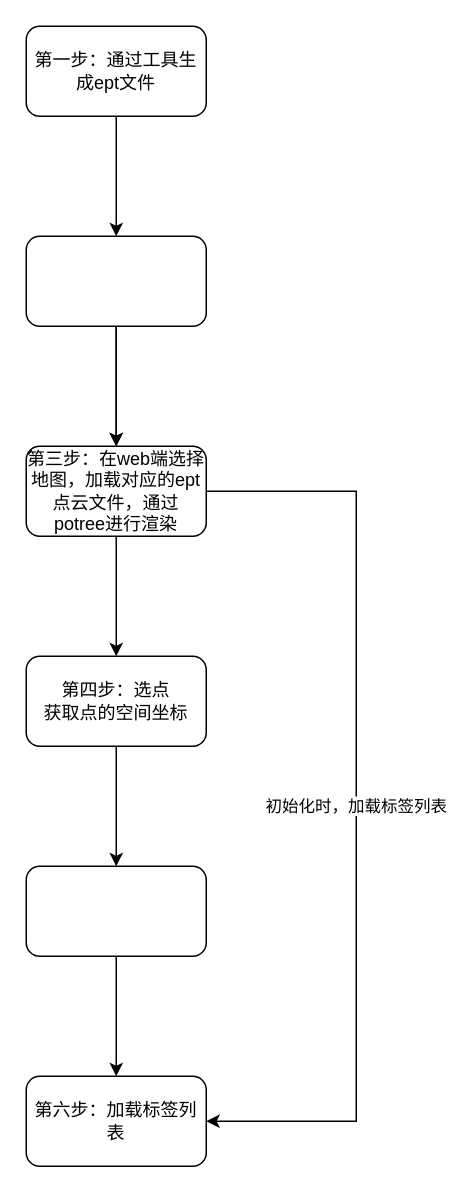
This 473x1193 diagram has some shape labels left out. The shapes that lost their labels are listed below. From the top down, each one's centre as x and y in pixels, then its label:
At pixel 115 280: "第二步：将地图和对应的ept文件路径配置到数据库中".
At pixel 115 910: "第五步：配置 修改点的标签属性信息".
